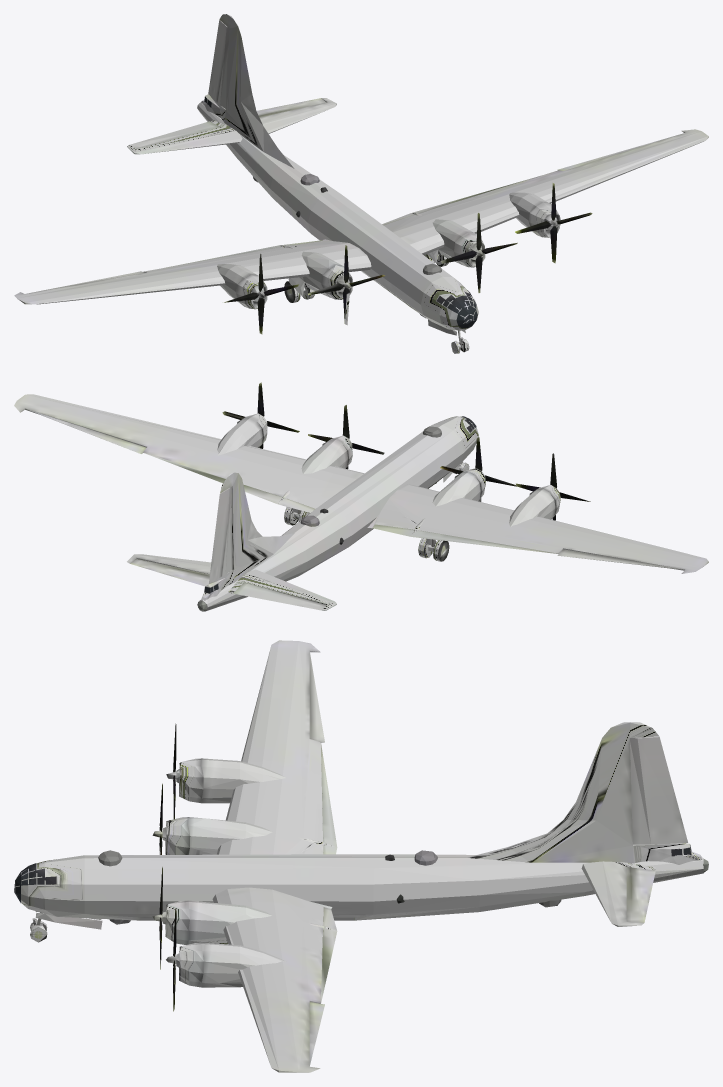
3 views of the same model, one above another, from view 1: azimuth 30°, elevation 25°; view 2: azimuth 150°, elevation 25°; view 3: azimuth 270°, elevation 25° (orthographic). The views are drawn at different scales.
Parts seen in each view (by area): view 1: prop4_plane_0; view 2: prop4_plane_0; view 3: prop4_plane_0.
Part boxes in pixels (<box>): prop4_plane_0: <box>14,14,708,353</box>; prop4_plane_0: <box>14,382,708,611</box>; prop4_plane_0: <box>14,640,708,1072</box>.
Bounding box in the file's own units: 3.23 × 0.7565 × 2.2.
1 material, 1 textured.
